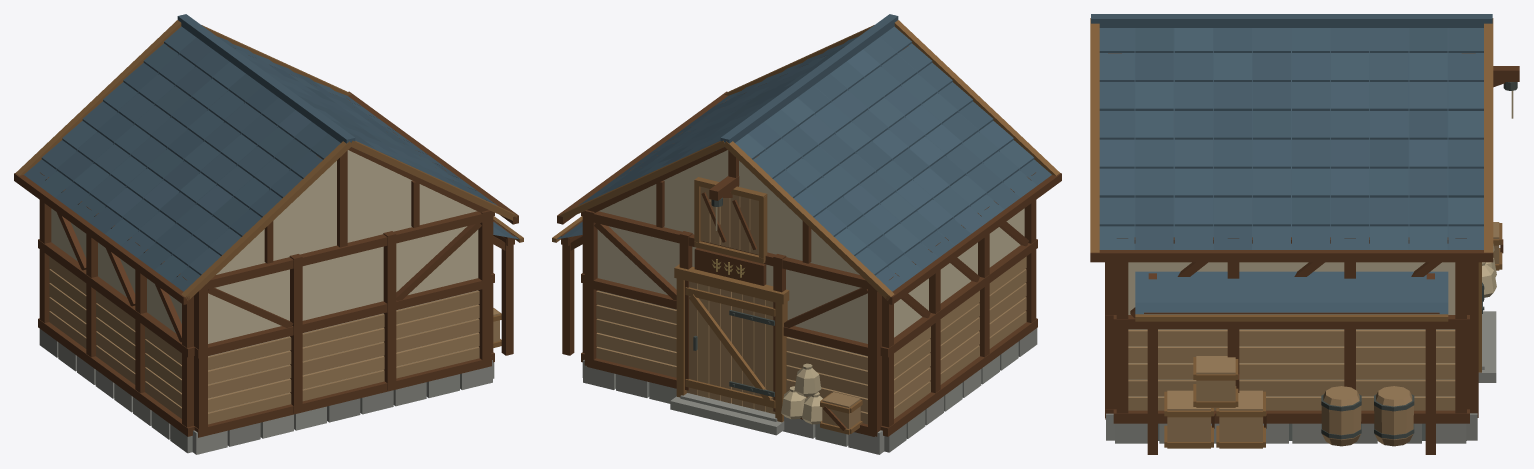
File: StorageHall.glb
3 views of the same model, side by side, from view 1: azimuth 30°, elevation 25°; view 2: azimuth 150°, elevation 25°; view 3: azimuth 270°, elevation 25° (orthographic). The views are drawn at different scales.
Visible parts, largest first — view 1: StorageHallBody; view 2: StorageHallBody, StorageHallDoor; view 3: StorageHallBody.
Boxes of the visible parts, left/top/right/bottom form: StorageHallBody: left=14, top=14, right=523, bottom=454; StorageHallBody: left=552, top=14, right=1061, bottom=454; StorageHallDoor: left=685, top=281, right=775, bottom=413; StorageHallBody: left=1090, top=14, right=1519, bottom=454.
Bounding box in the file's own units: 8.44 × 6.42 × 7.35.
